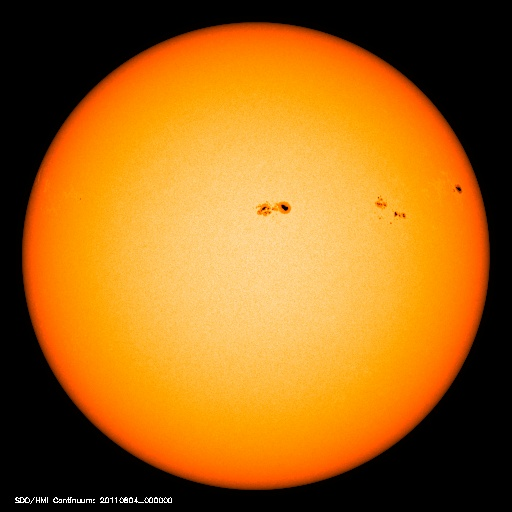sunspot: (362, 187, 413, 230), (241, 190, 298, 224), (445, 172, 473, 204)
